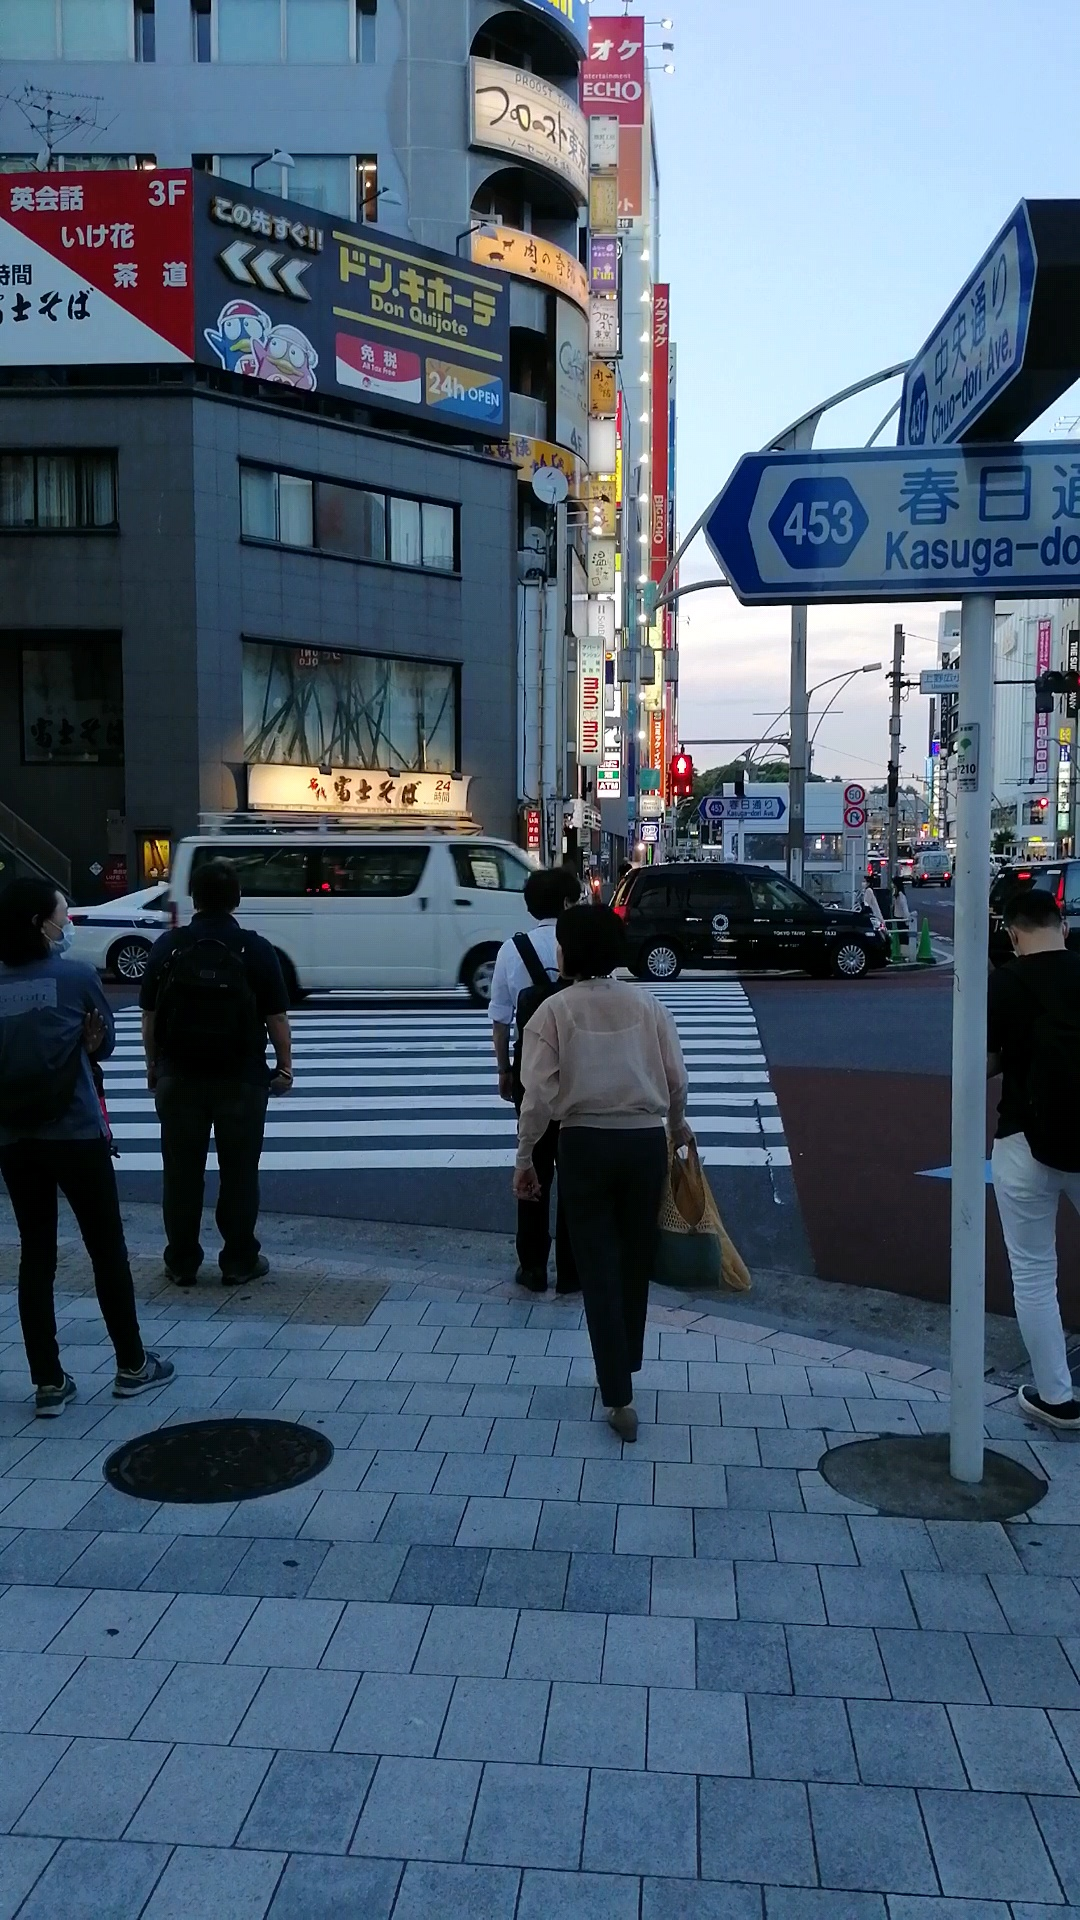red: (669, 752, 695, 798)
